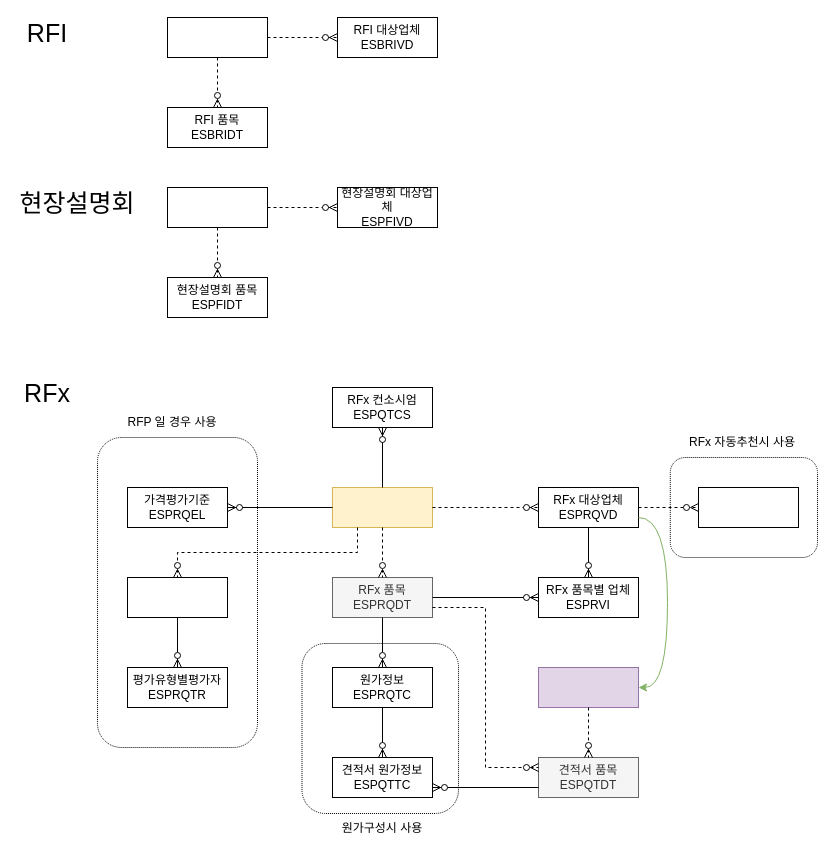
Some shapes in this 835 by 861 pixel diagram are drawn without their labels. The shapes that lost their labels are listed below. From the top down, each one's box as (x1, y1, x2, y2) in pixels, then its label:
(166, 16, 268, 58): RFI 헤더 ESBRIHD
(166, 186, 268, 228): 현장설명회 헤더 ESPFIHD
(332, 486, 432, 528): RFx 헤더 ESPRQHD
(698, 486, 798, 528): RFx 추천업체 ESPRQVR
(126, 576, 228, 618): 비가격평가기준 ESPRQEH
(538, 666, 638, 708): 견적서 헤더 ESPQTHD
